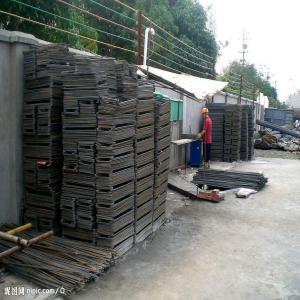yellow: (202, 108, 209, 120)
